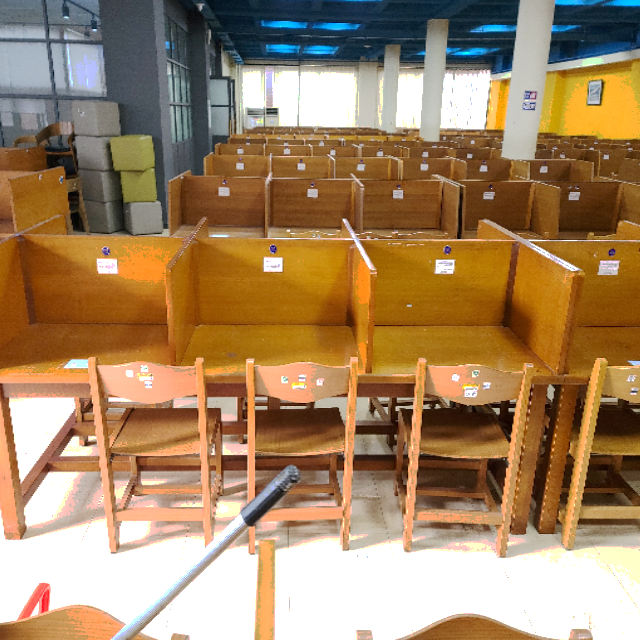empty: (173, 215, 371, 465), (375, 218, 572, 465), (1, 219, 170, 463)
